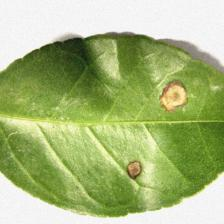canker: (104, 58, 188, 183)
